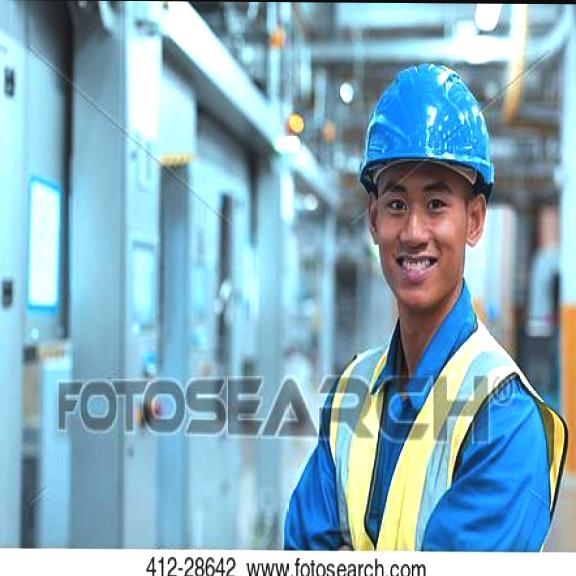safety_vest: (328, 334, 534, 576)
